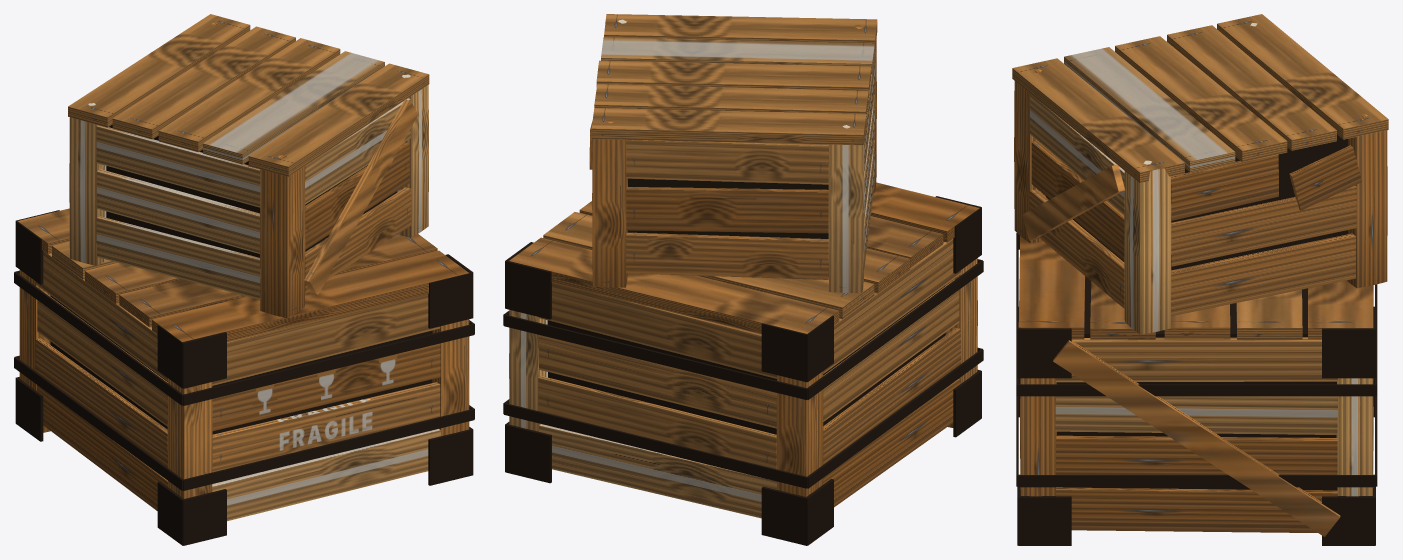
The model's file is prop_soft_crates.glb.
The picture shows the model from 3 angles, left to right: view 1: azimuth 30°, elevation 25°; view 2: azimuth 150°, elevation 25°; view 3: azimuth 270°, elevation 25°; orthographic projection. The views are drawn at different scales.
Parts seen in each view (by area): view 1: prop_soft_crates_body; view 2: prop_soft_crates_body; view 3: prop_soft_crates_body.
Boxes of the visible parts, box(x1,y1,x2,y2) form: prop_soft_crates_body: box(14, 14, 474, 545); prop_soft_crates_body: box(503, 14, 983, 545); prop_soft_crates_body: box(1012, 14, 1388, 545).
Bounding box in the file's own units: 0.9132 × 1.02 × 0.9148.
1 material, 1 textured.
